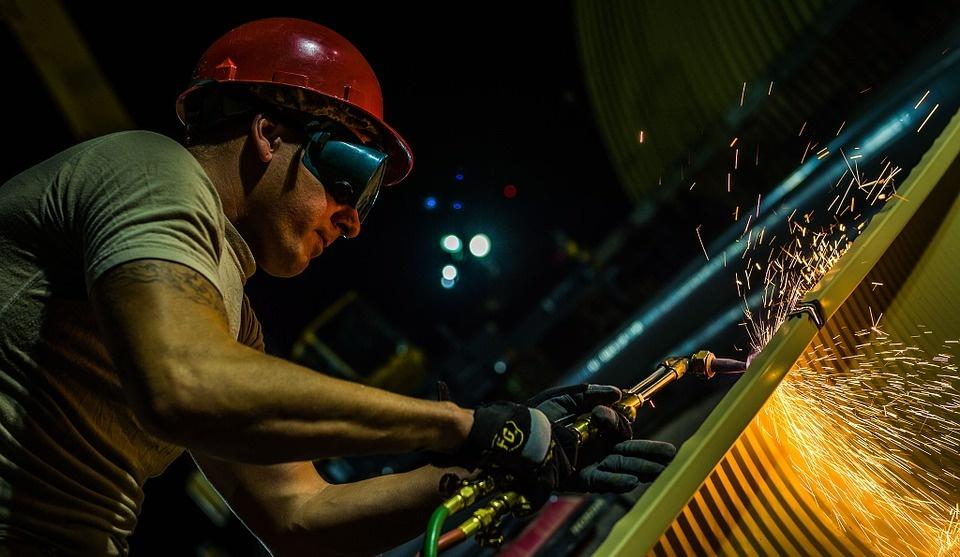Helmet: (187, 15, 408, 270)
